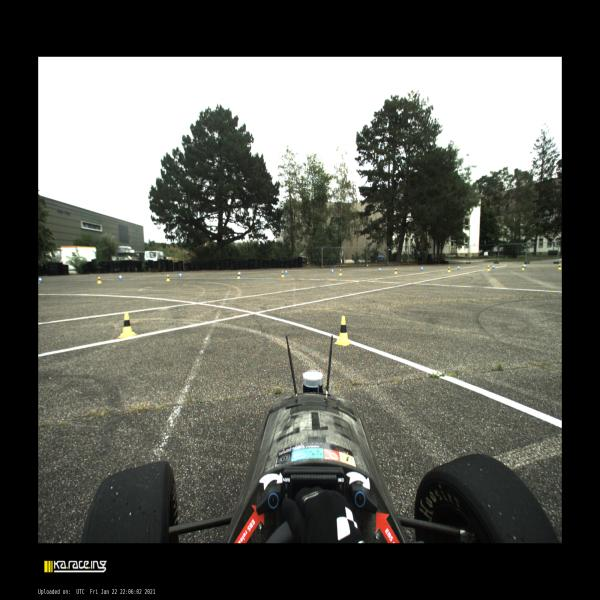blue_cone: (39, 276, 42, 283), (119, 274, 122, 280), (492, 264, 495, 269), (180, 272, 182, 278), (285, 270, 288, 274), (332, 268, 334, 274), (379, 267, 381, 272), (421, 266, 423, 271), (458, 265, 460, 270), (524, 263, 526, 268), (240, 270, 241, 276)
yellow_cone: (118, 312, 137, 338), (334, 316, 350, 346), (97, 276, 102, 284), (166, 274, 170, 281), (558, 264, 562, 270), (521, 264, 525, 270), (281, 271, 285, 277), (237, 272, 240, 279), (487, 265, 490, 271), (395, 268, 398, 274), (339, 269, 342, 275), (448, 267, 451, 272)
